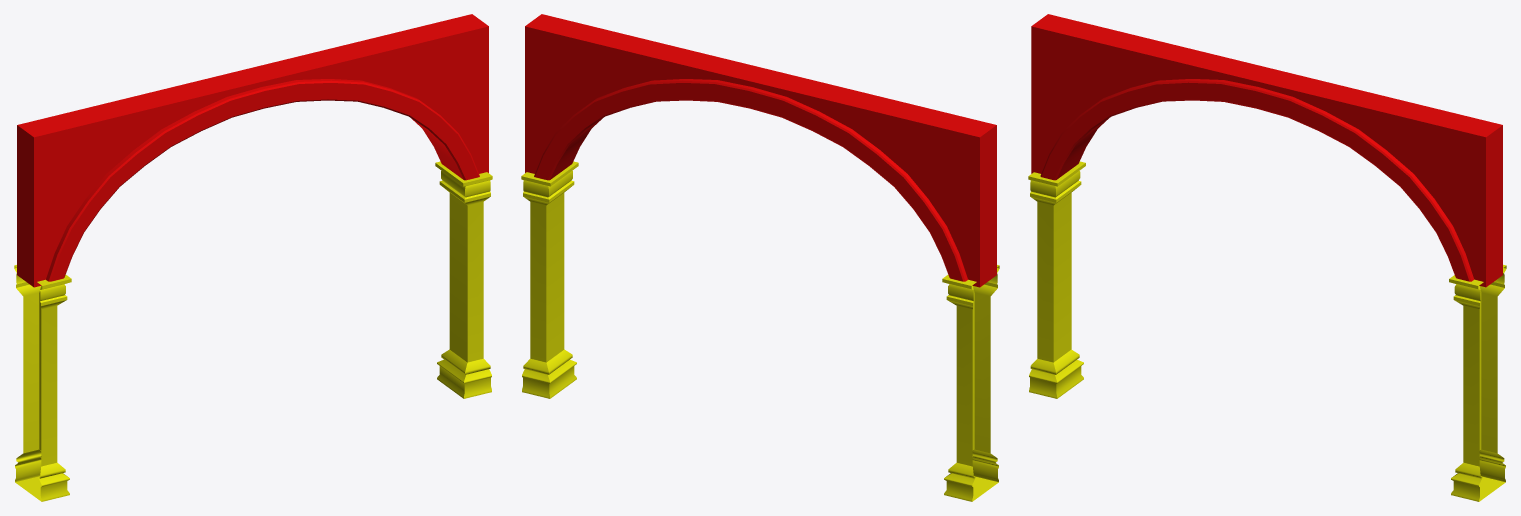
File: arche.fbx
3 renders of one model, left to right at view 1: azimuth 30°, elevation 25°; view 2: azimuth 150°, elevation 25°; view 3: azimuth 330°, elevation 25°, orthographic.
Parts seen in each view (by area): view 1: pCylinder3, Ref126, Ref97; view 2: pCylinder3, Ref126, Ref97; view 3: pCylinder3, Ref97, Ref126.
Boxes of the visible parts, left/top/right/bottom form: pCylinder3: left=17, top=14, right=488, bottom=287; Ref126: left=435, top=161, right=492, bottom=398; Ref97: left=14, top=265, right=71, bottom=501; pCylinder3: left=525, top=14, right=996, bottom=287; Ref126: left=521, top=161, right=578, bottom=398; Ref97: left=942, top=265, right=999, bottom=501; pCylinder3: left=1031, top=14, right=1502, bottom=287; Ref97: left=1028, top=161, right=1085, bottom=398; Ref126: left=1449, top=264, right=1506, bottom=501.
Size of the model in its own units: 382 by 290 by 40.93.
